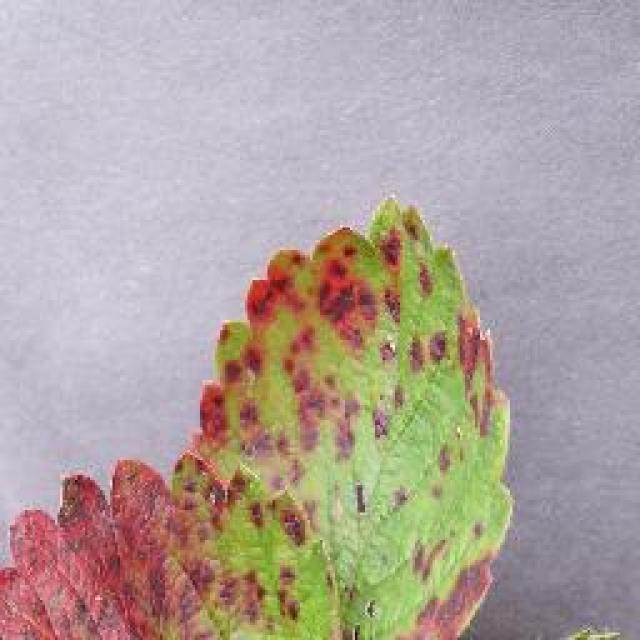Strawberry leaf scorch: (30, 224, 487, 618)
